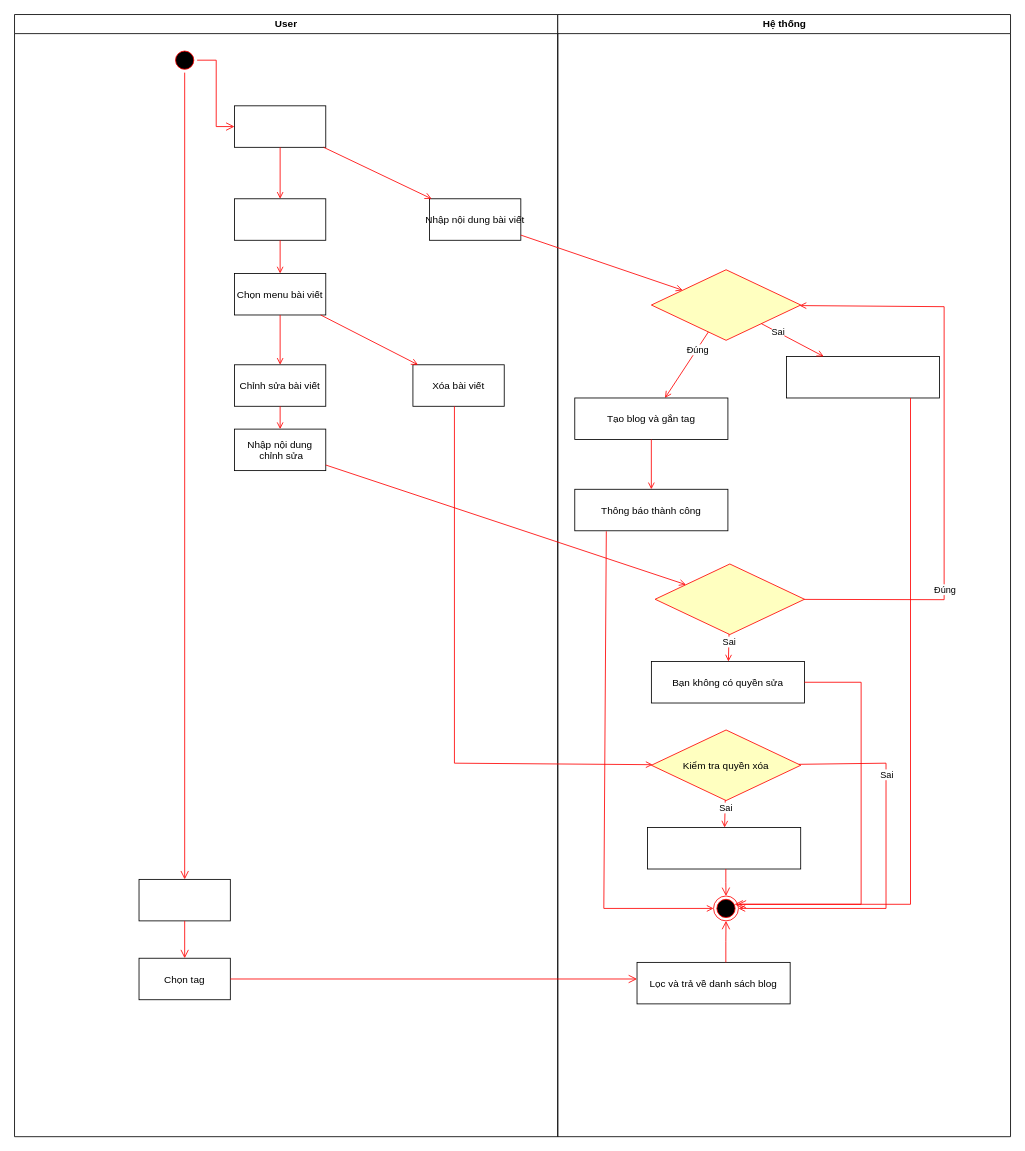
Image size: 1025x1151. Some labels were removed from this diagram. The shapes that lost their labels are listed below. From the top down, each one's centre as x and y in pixels, then its label:
At point 280,126: "Đăng nhập".
At point 280,219: "Chọn bài viết".
At point 726,304: "Kiểm tra nội dung".
At point 863,377: "Thống báo thất bại do có nội dung nhạy cảm".
At point 729,599: "Kiểm tra quyền sửa".
At point 724,848: "Bạn không có quyền xóa".
At point 184,900: "Tìm kiếm tag".
